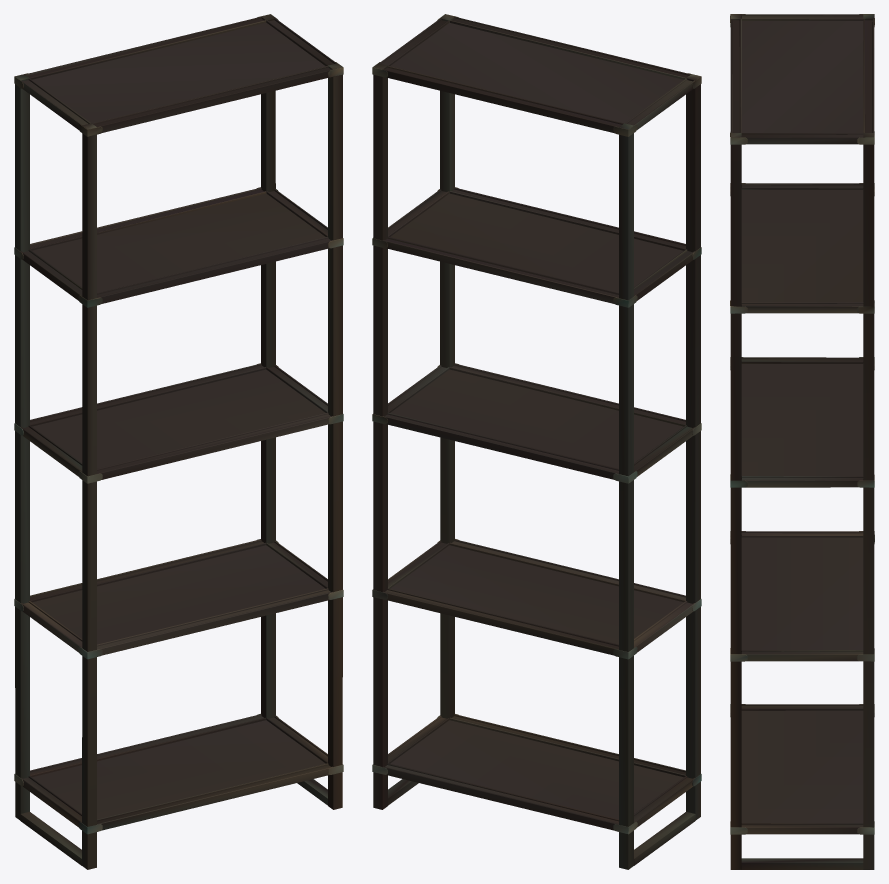
The model's file is unhyun_cabinet_b_305efa4f.glb.
3 renders of one model, left to right at view 1: azimuth 30°, elevation 25°; view 2: azimuth 150°, elevation 25°; view 3: azimuth 270°, elevation 25°, orthographic.
Visible parts, largest first — view 1: SM_Cabinet238_M_Cabinet238_0; view 2: SM_Cabinet238_M_Cabinet238_0; view 3: SM_Cabinet238_M_Cabinet238_0.
Part boxes in pixels (x1,y1,x2,y2): SM_Cabinet238_M_Cabinet238_0: [14, 14, 343, 869]; SM_Cabinet238_M_Cabinet238_0: [372, 14, 701, 869]; SM_Cabinet238_M_Cabinet238_0: [730, 14, 874, 869].
Bounding box in the file's own units: 0.5613 × 1.55 × 0.2774.
